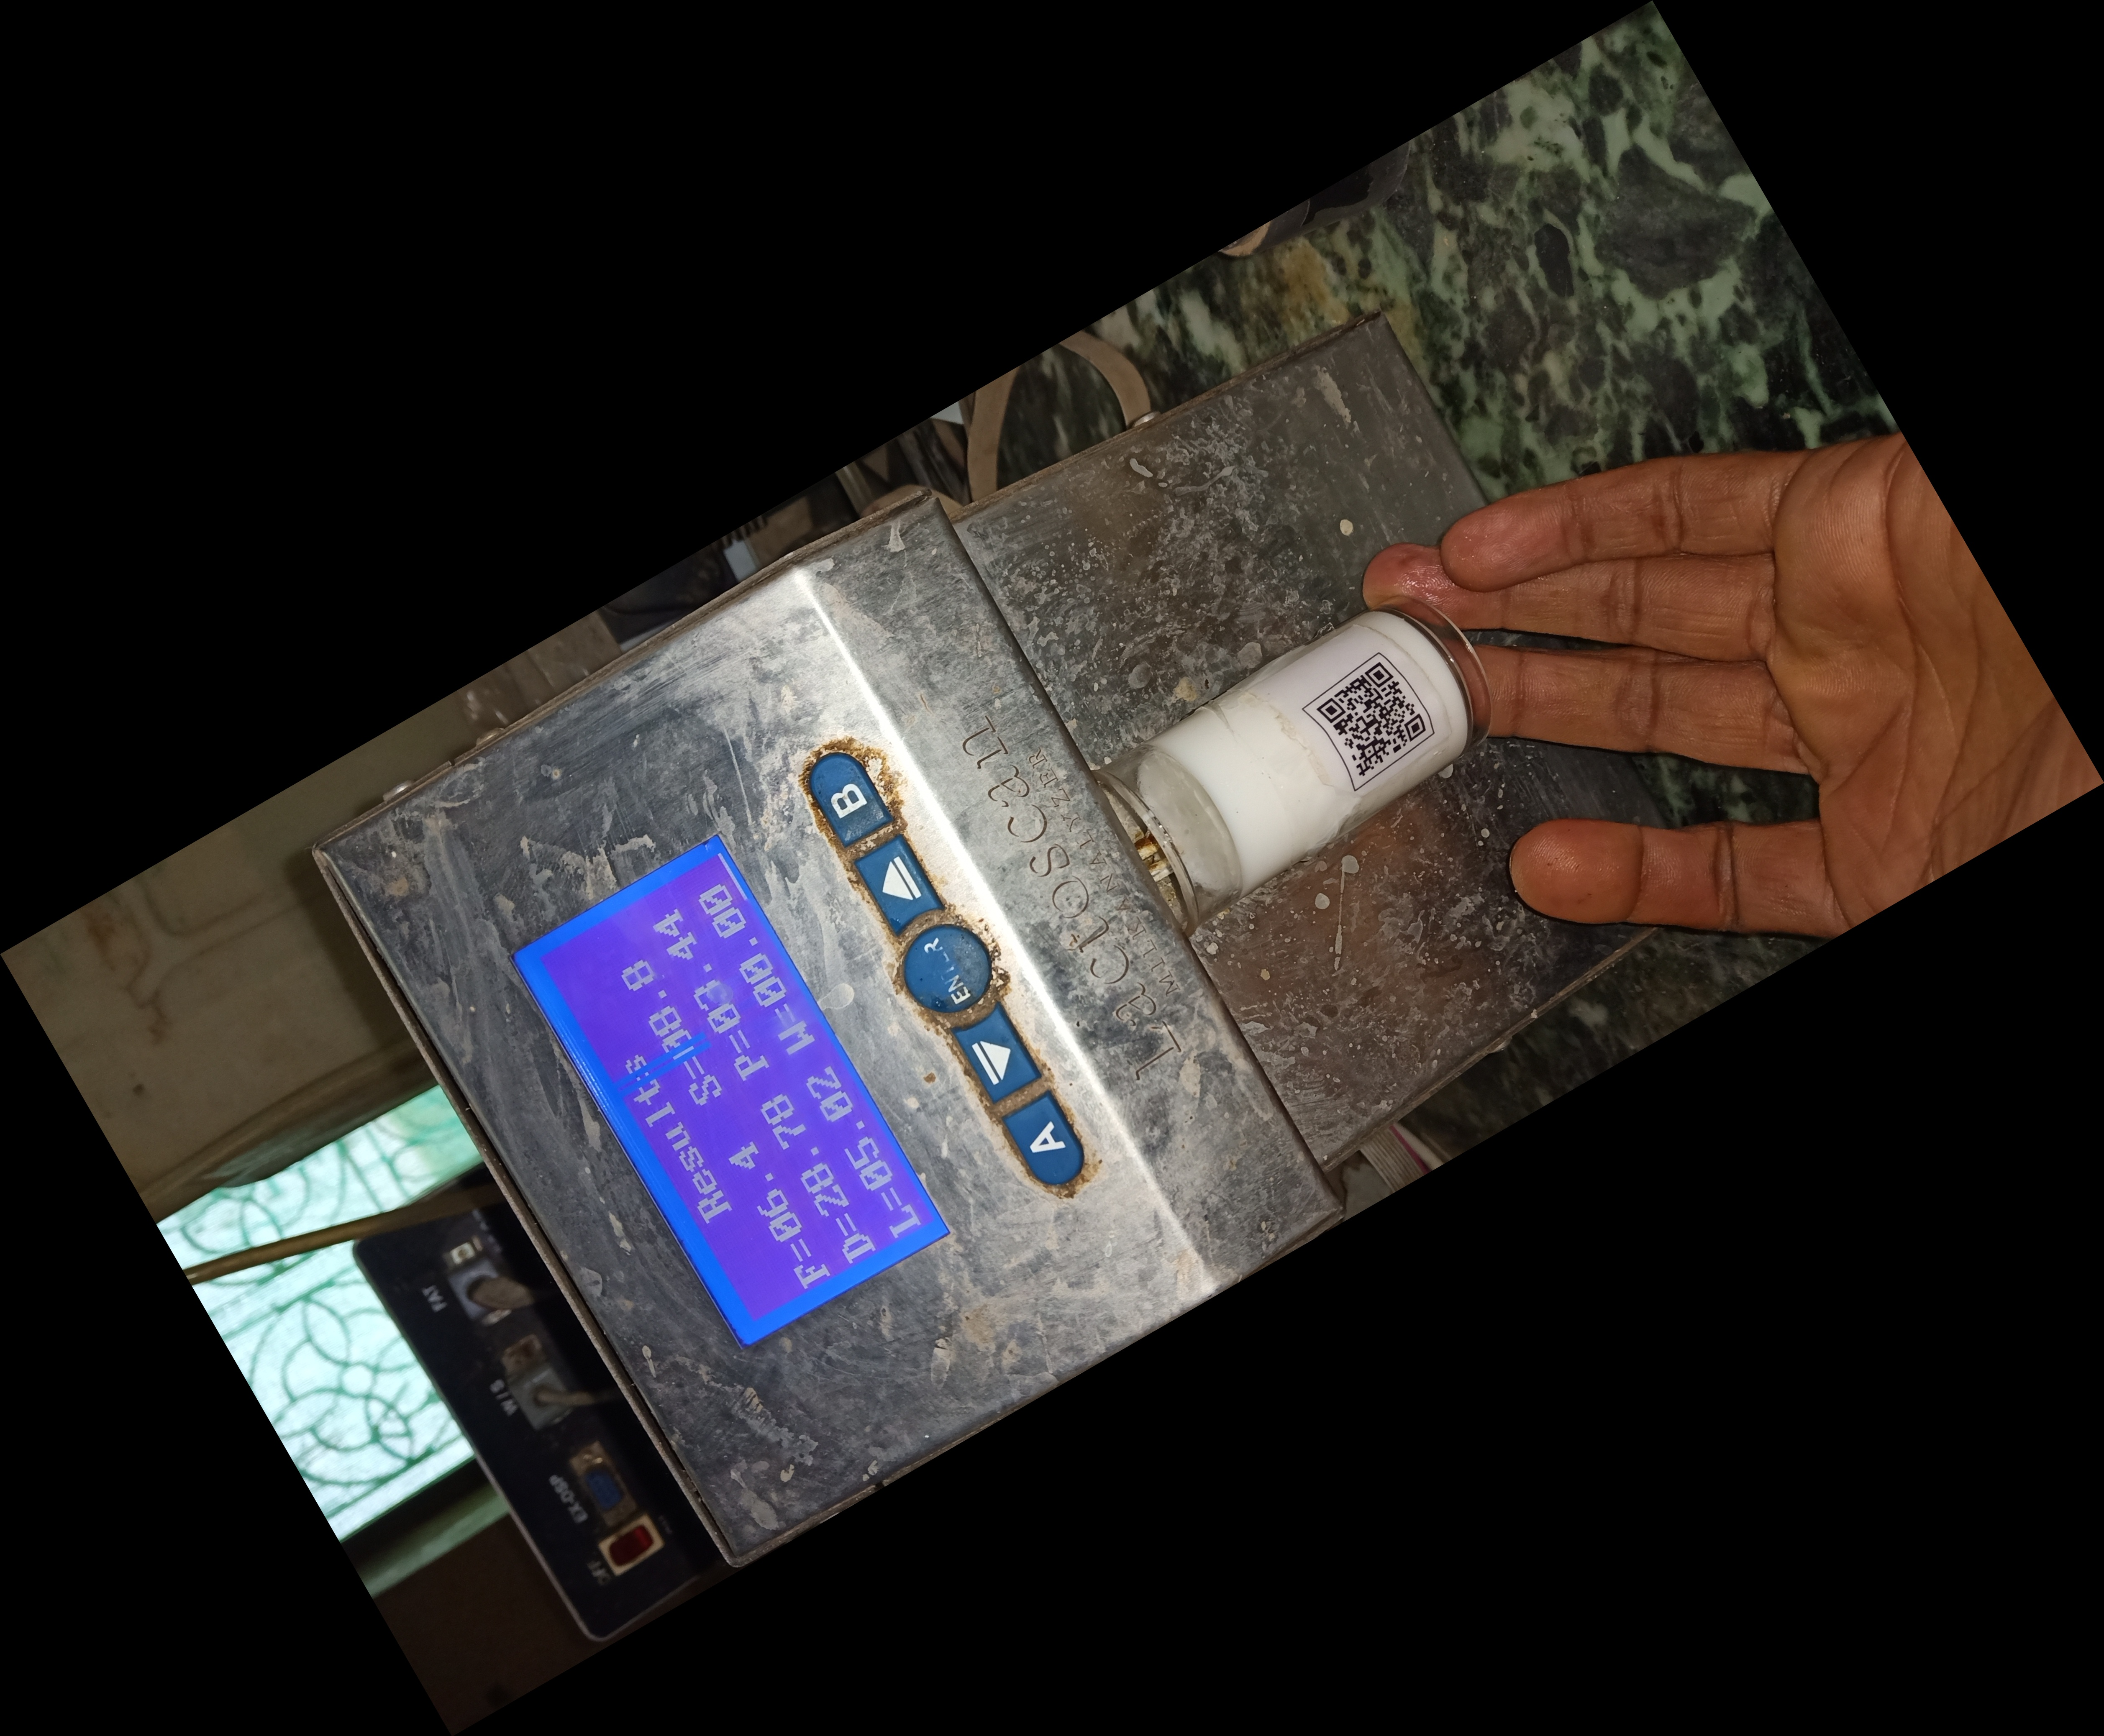lcd: (512, 837, 965, 1327)
qr: (1293, 636, 1449, 798)
